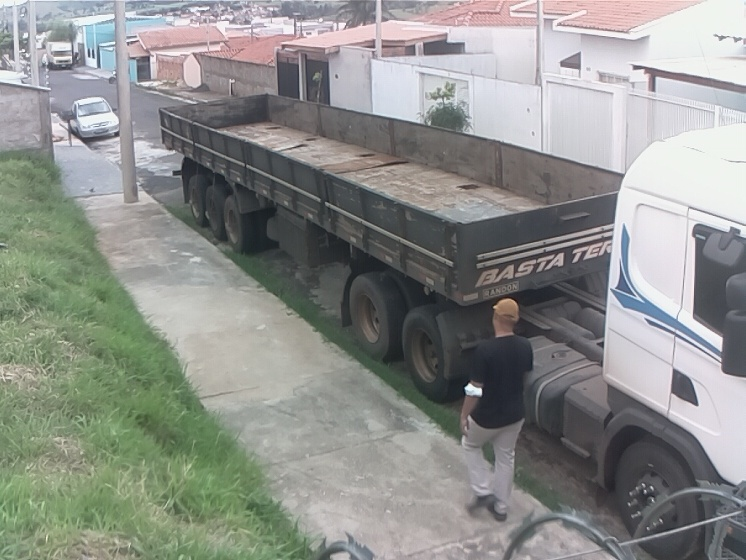person: (455, 297, 536, 526)
